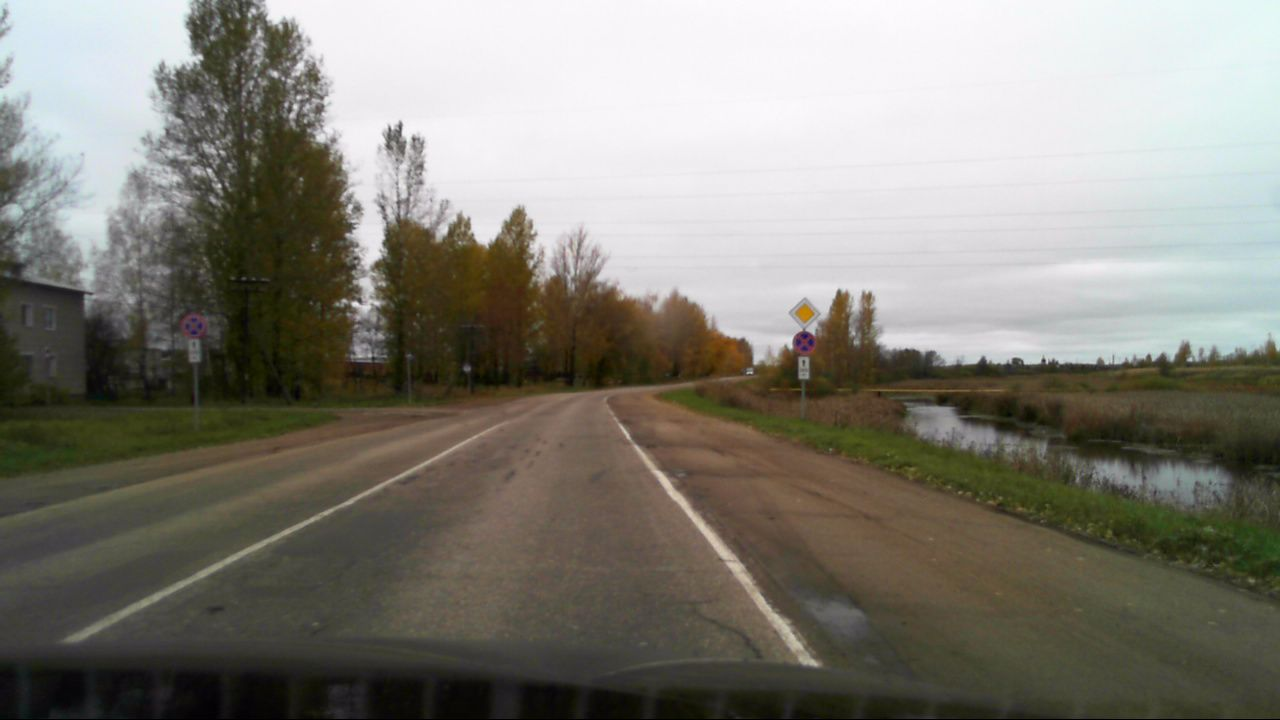No Parking: (792, 331, 816, 355)
